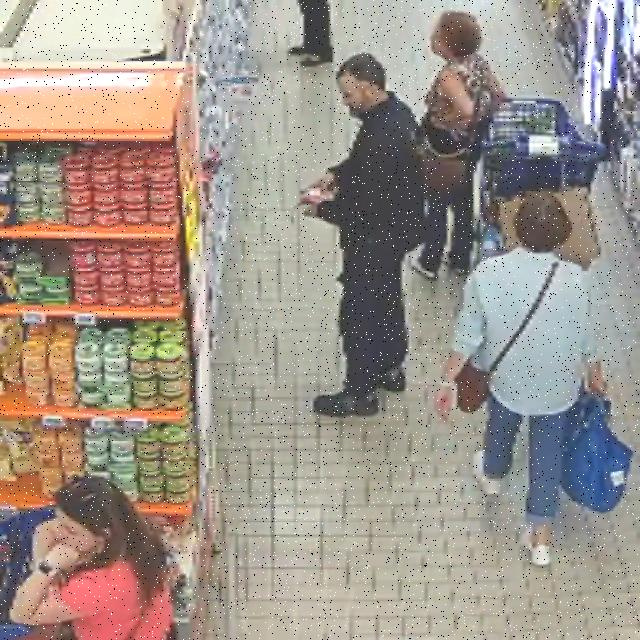article: (299, 185, 336, 205)
bags: (456, 262, 559, 413), (418, 69, 484, 196)
hands: (33, 519, 59, 560), (46, 544, 80, 571), (434, 385, 456, 421), (587, 362, 608, 396), (307, 173, 336, 195), (445, 121, 469, 140), (303, 205, 318, 217)
person: (436, 194, 606, 565), (309, 54, 424, 416), (10, 477, 172, 639), (412, 12, 505, 280), (289, 0, 333, 67)
